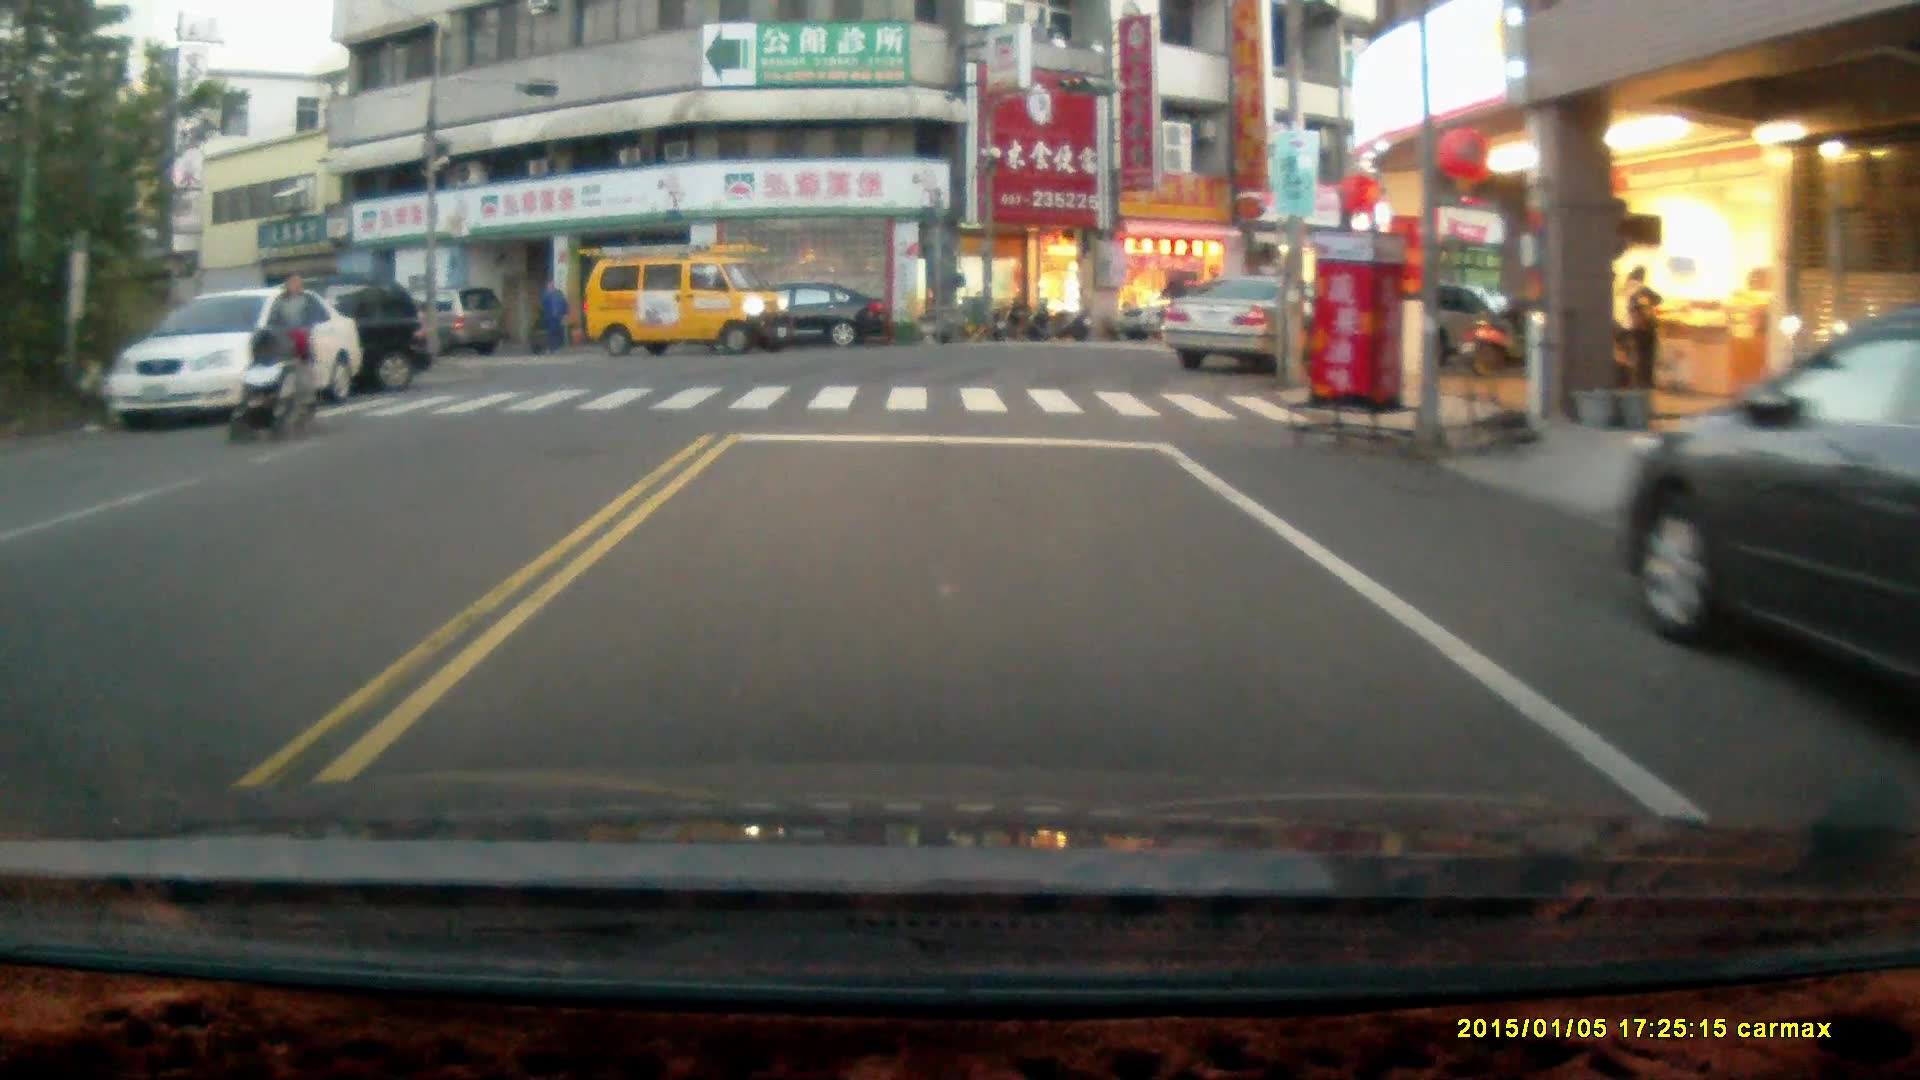pedestrian: (273, 268, 316, 411), (1627, 262, 1663, 393), (541, 279, 568, 353)
rider: (225, 318, 316, 443), (1137, 264, 1198, 343)
vehicle: (96, 288, 360, 432), (184, 275, 429, 399), (585, 240, 795, 354), (1167, 272, 1337, 372), (718, 282, 888, 355), (383, 283, 517, 365)
